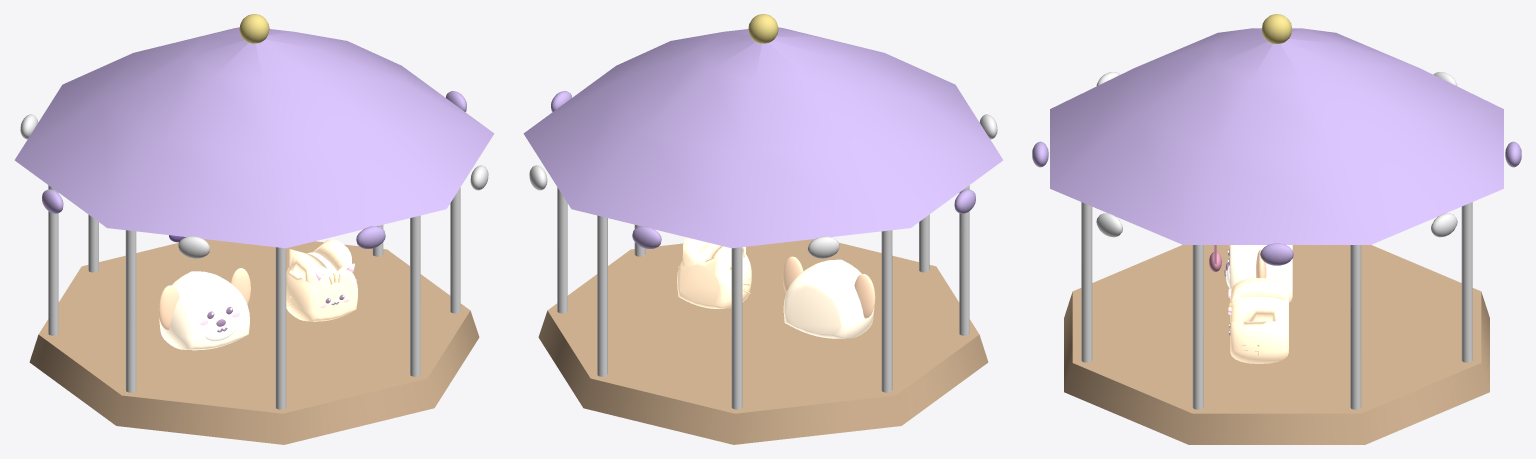
Rendered from building_bandstand_L05.glb.
3 renders of one model, left to right at view 1: azimuth 30°, elevation 25°; view 2: azimuth 150°, elevation 25°; view 3: azimuth 270°, elevation 25°, orthographic.
Visible parts, largest first — view 1: Body, object 17, object 7, object 8, object 9; view 2: Body, object 7, object 17, object 8; view 3: Body, object 17, object 7.
Part boxes in pixels (left/top/right/bottom): Body: left=14, top=14, right=494, bottom=444; object 17: left=286, top=239, right=357, bottom=321; object 7: left=159, top=271, right=249, bottom=350; object 8: left=158, top=268, right=250, bottom=329; object 9: left=204, top=319, right=235, bottom=341; Body: left=523, top=14, right=1003, bottom=444; object 7: left=783, top=259, right=874, bottom=338; object 17: left=677, top=237, right=751, bottom=308; object 8: left=782, top=256, right=875, bottom=318; Body: left=1032, top=14, right=1521, bottom=444; object 17: left=1230, top=278, right=1288, bottom=363; object 7: left=1229, top=245, right=1292, bottom=302.
Bounding box in the file's own units: 15.94 × 12.2 × 15.94.
